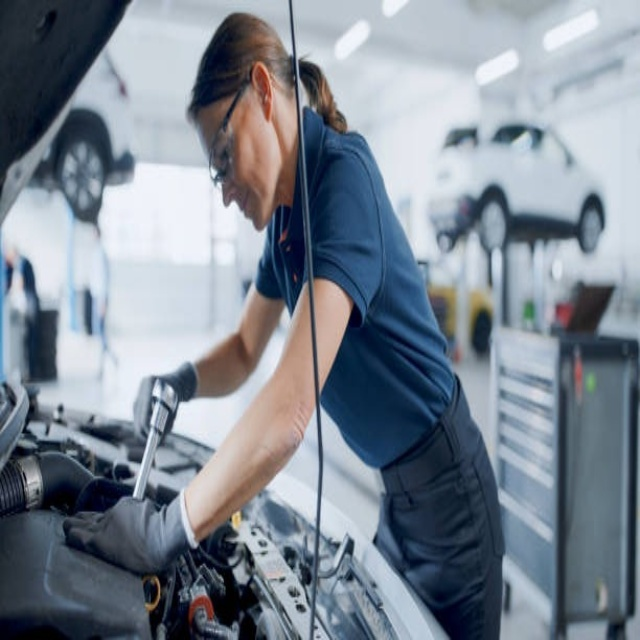Gafas: (209, 75, 254, 189)
Guantes: (64, 488, 199, 578), (134, 361, 198, 440)
Sin_mascara: (223, 184, 265, 233)
